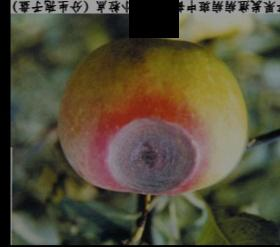rotten apple: (57, 41, 251, 199)
